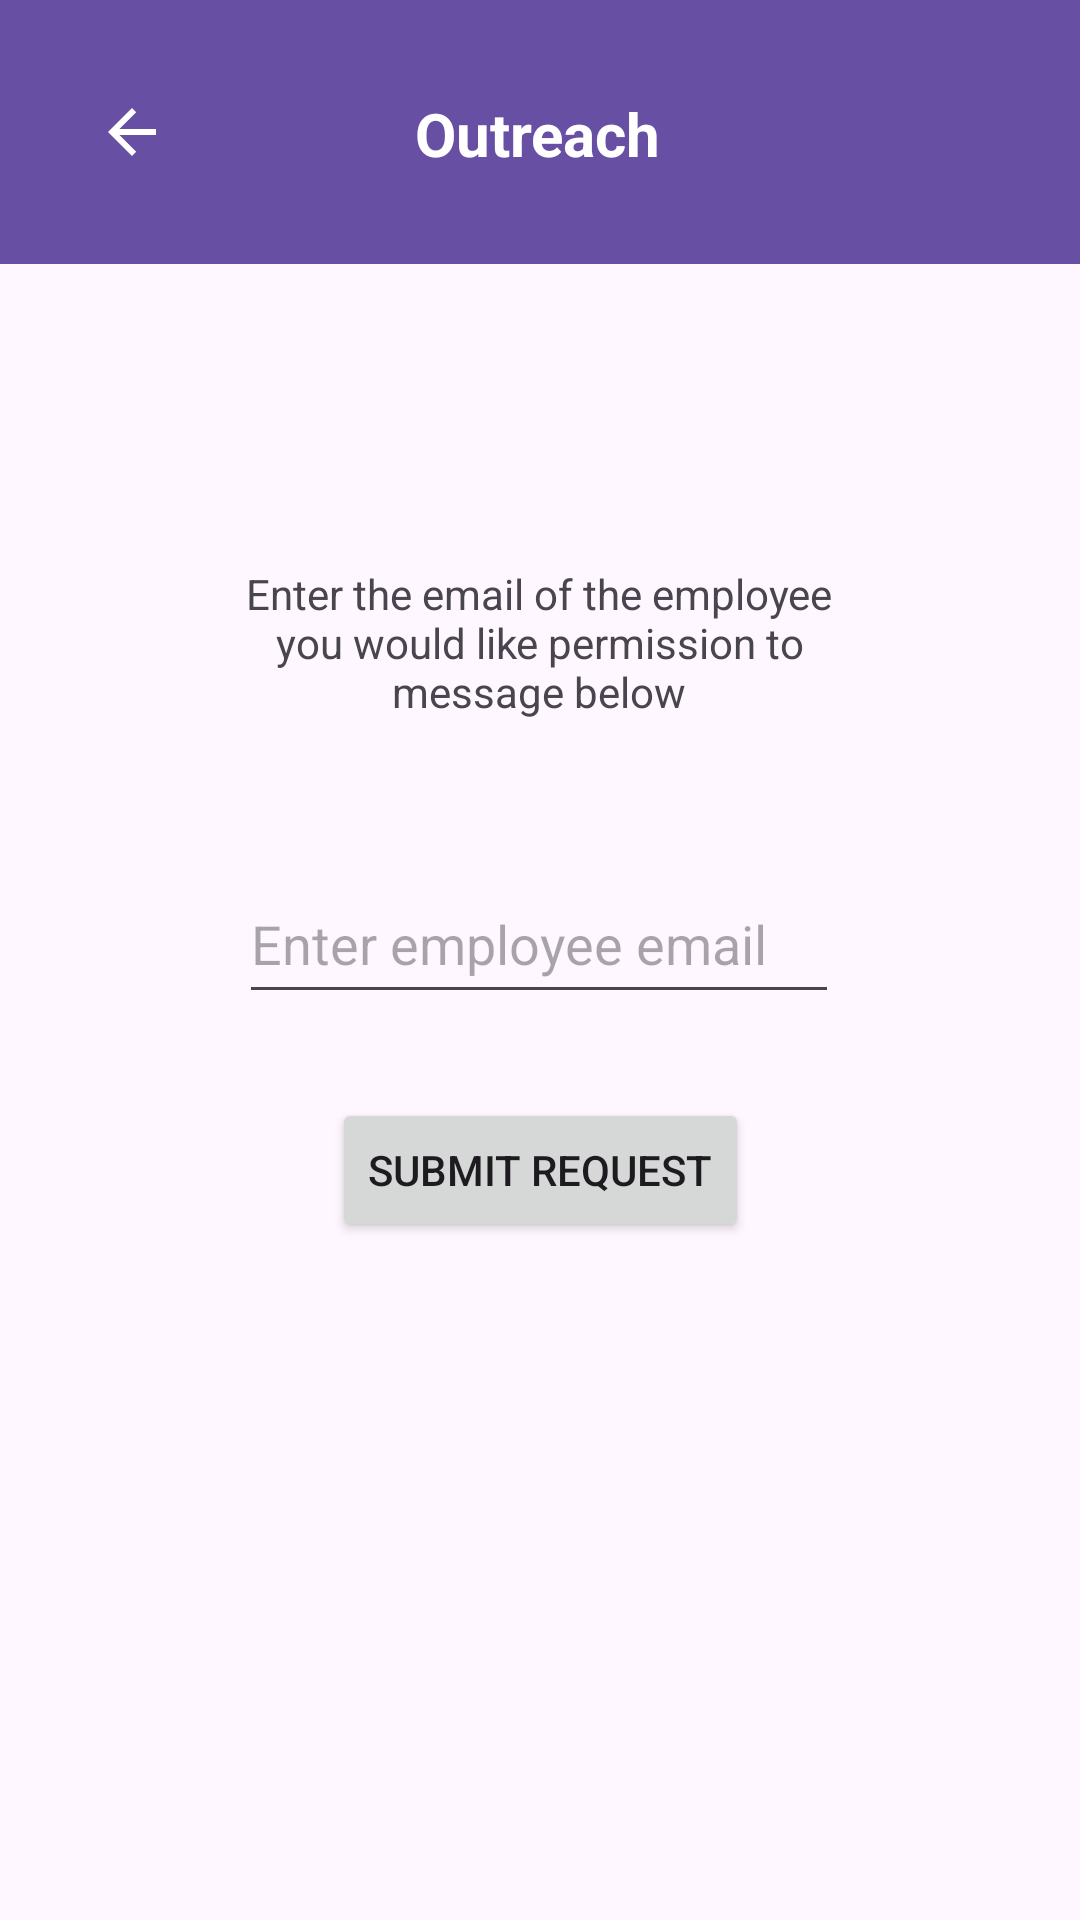

Where icons sit on this 1080px×1920px app screen, as (x1, y1, x2, y2):
Go back: (108, 108, 156, 156)
